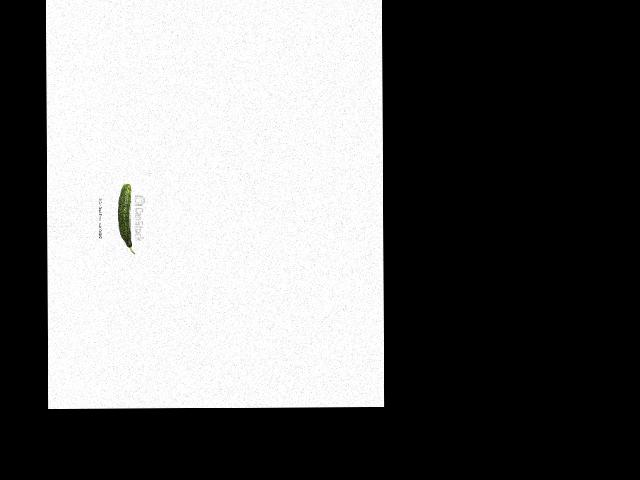cucumber: (117, 184, 134, 254)
